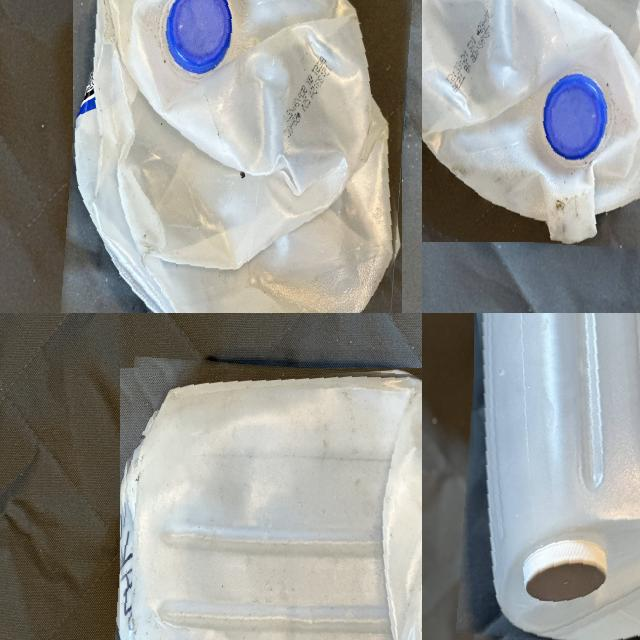milk-jug: (65, 0, 411, 313), (113, 361, 422, 640), (465, 313, 640, 640), (422, 0, 640, 247)
